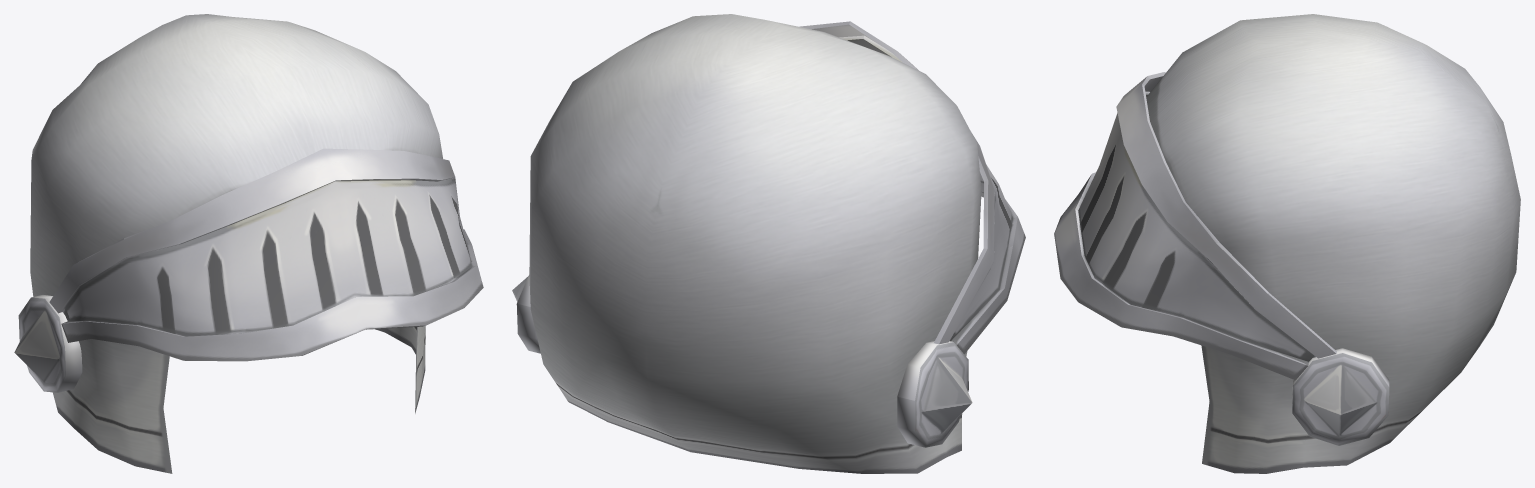
File: Helmet.FBX
The picture shows the model from 3 angles, left to right: view 1: azimuth 30°, elevation 25°; view 2: azimuth 150°, elevation 25°; view 3: azimuth 270°, elevation 25°; orthographic projection. The views are drawn at different scales.
Visible parts, largest first — view 1: Object002; view 2: Object002; view 3: Object002.
Part boxes in pixels (<box>): Object002: <box>14,14,483,473</box>; Object002: <box>512,14,1025,473</box>; Object002: <box>1054,14,1520,473</box>.
Bounding box in the file's own units: 152 × 124 × 145.
